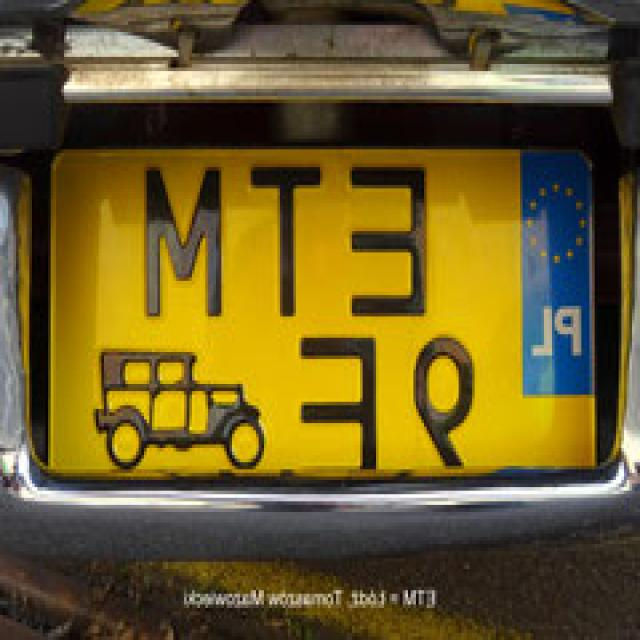pl_license_plate: (43, 146, 597, 473)
